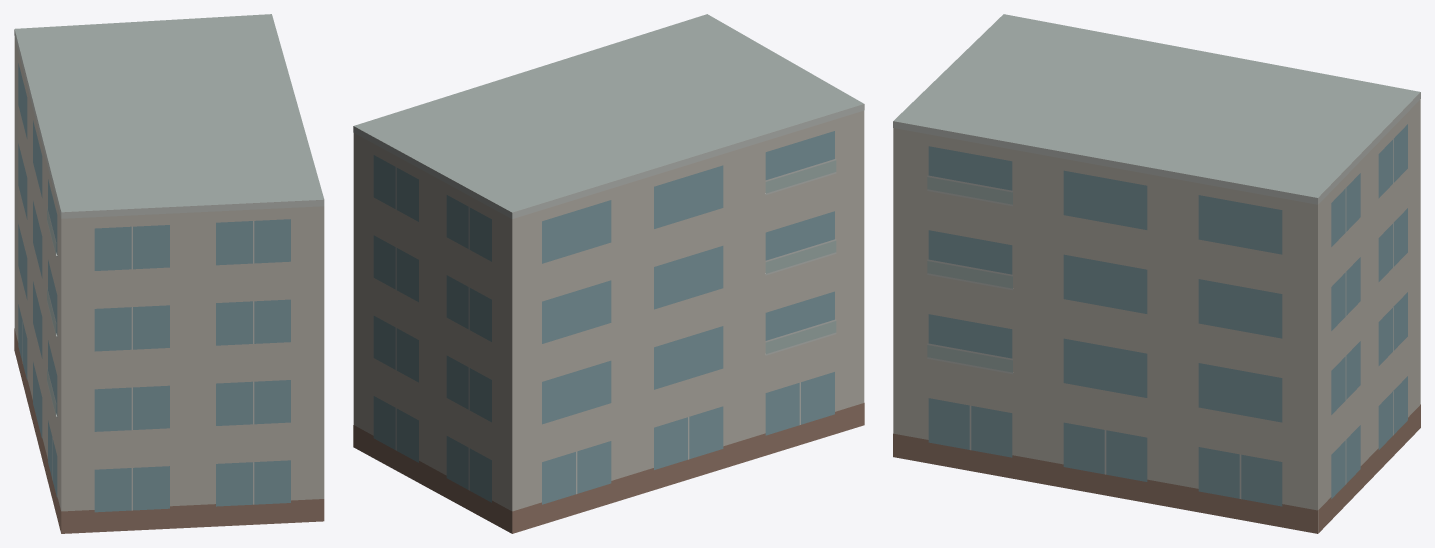
File: survey-upis-32967132.glb
The picture shows the model from 3 angles, left to right: view 1: azimuth 30°, elevation 25°; view 2: azimuth 150°, elevation 25°; view 3: azimuth 270°, elevation 25°; orthographic projection. The views are drawn at different scales.
Parts seen in each view (by area): view 1: survey-upis-32967132.tmp; view 2: survey-upis-32967132.tmp; view 3: survey-upis-32967132.tmp.
Part boxes in pixels (box(x1,y1,x2,y2)): survey-upis-32967132.tmp: box(14, 14, 324, 533); survey-upis-32967132.tmp: box(353, 14, 864, 533); survey-upis-32967132.tmp: box(893, 14, 1420, 533).
Size of the model in its own units: 14.11 by 12 by 17.09.
